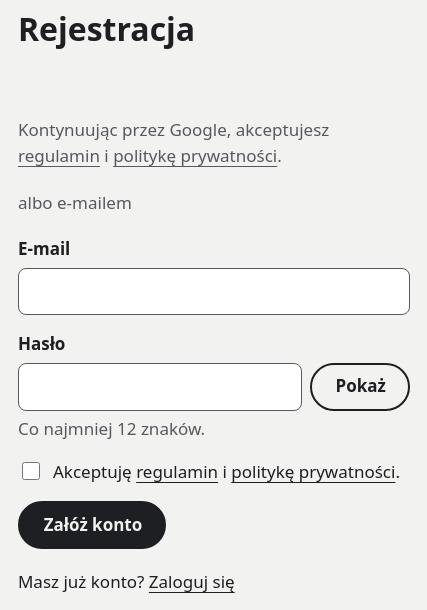
registration page › sends a link instead of logging in right away
Type "ola@example.com" into the field labelled "E-mail" at (214, 291), box [18,268,410,315]
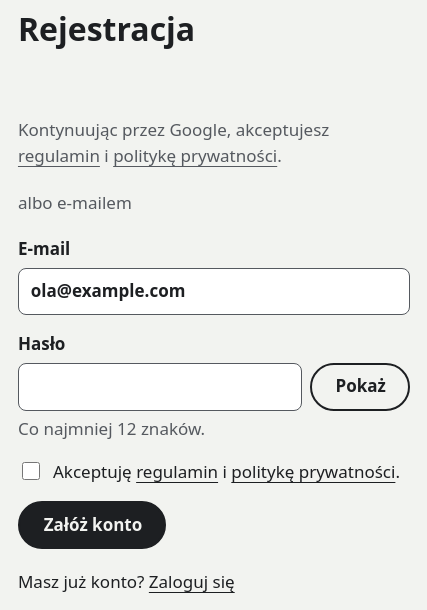
Type "dlugie-haslo-123" into the password field labelled "Hasło" at (160, 387), box [18,363,302,411]
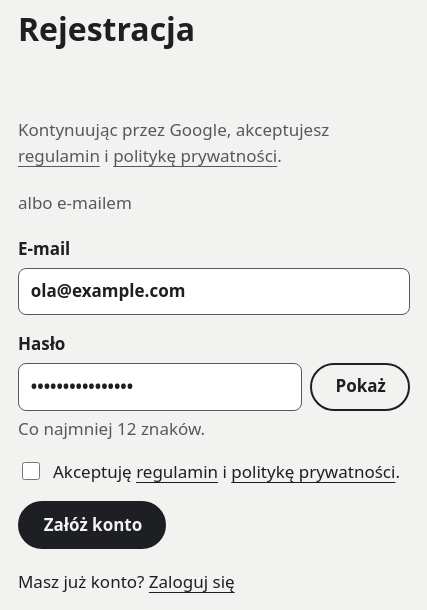
Click the checkbox labelled "Akceptuję regulamin i politykę prywatności ." at (31, 471), box [22,462,40,480]
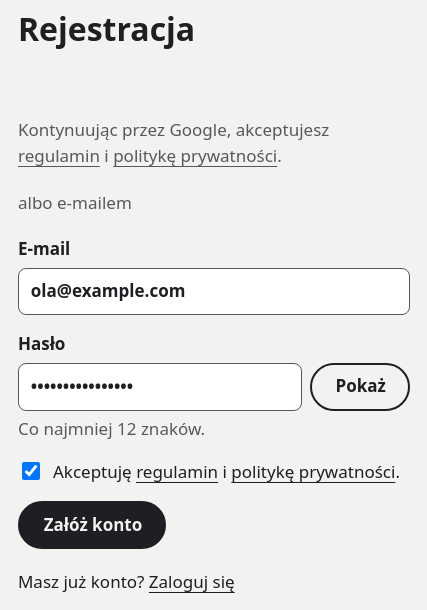
Submit the form, box [18,236,410,549]
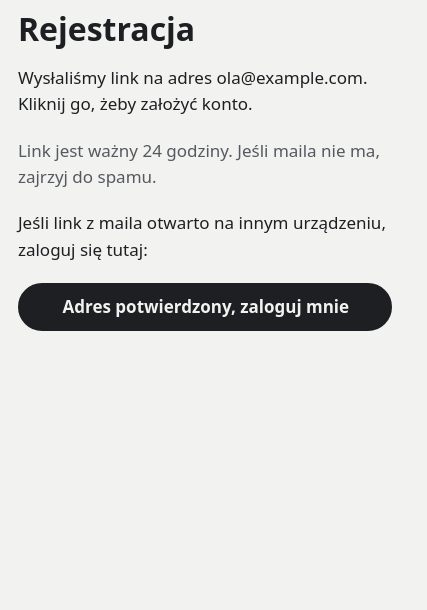
Check: the text "Wysłaliśmy link na adres ola@example.com." is shown, box [18,66,368,115]
